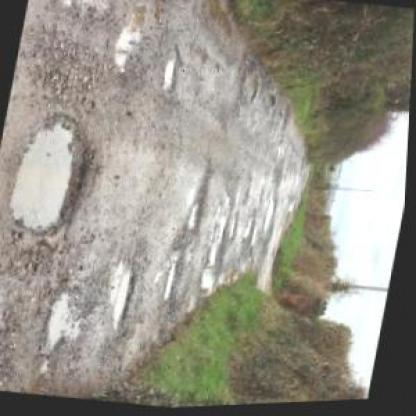pothole: (4, 108, 101, 243), (110, 3, 155, 82), (44, 287, 90, 361), (186, 164, 219, 242), (112, 270, 140, 336), (47, 0, 110, 21), (162, 47, 187, 96), (244, 214, 261, 251), (201, 271, 222, 298)
